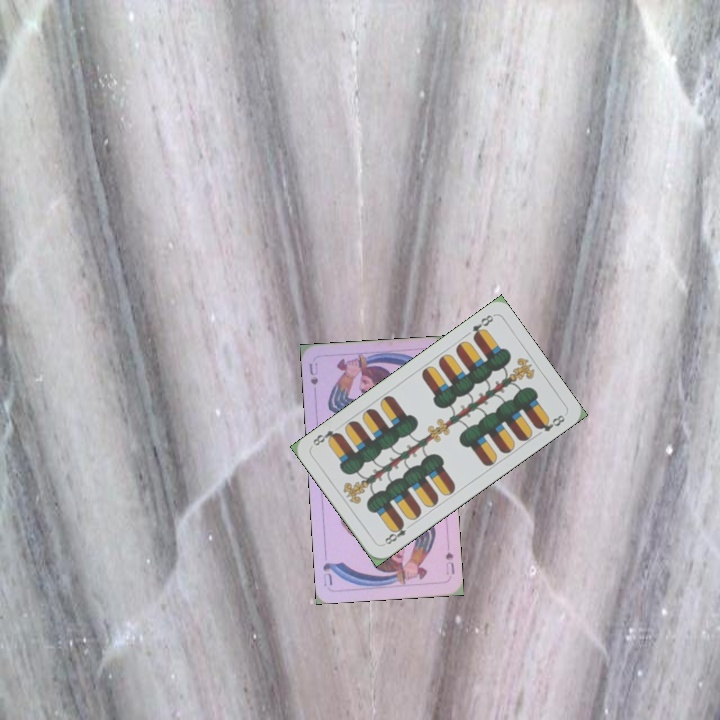E8: (379, 518, 409, 548), (468, 311, 496, 342)
SU: (442, 548, 457, 577), (305, 359, 320, 387)
